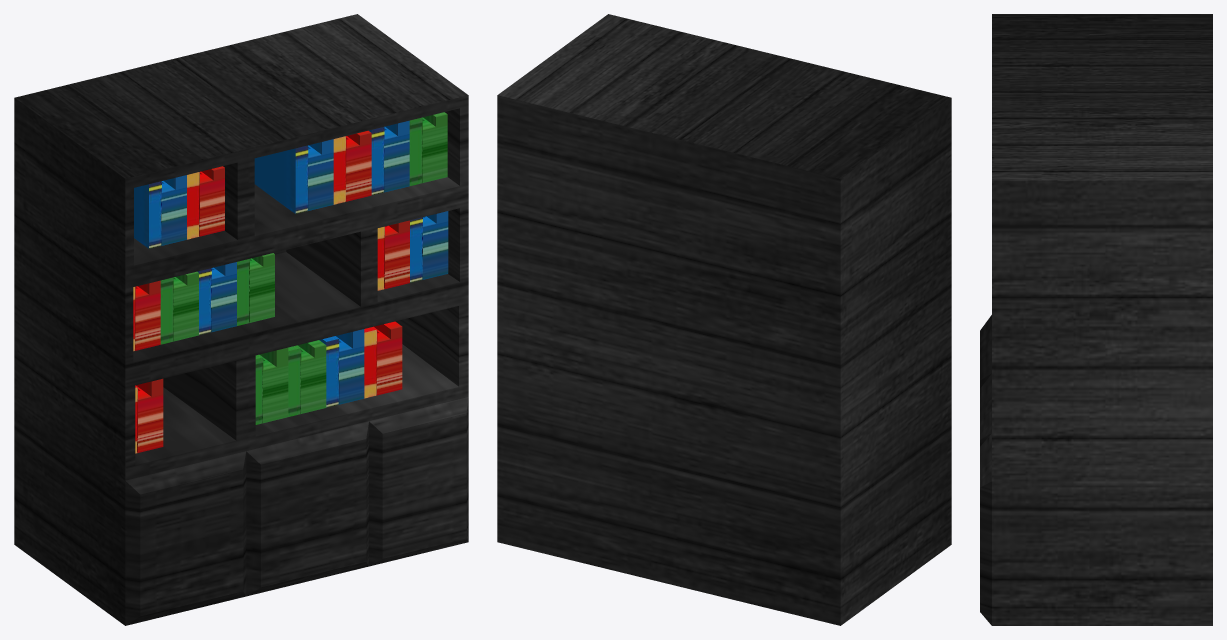
Rendered from Librero_prefab.fbx.
The picture shows the model from 3 angles, left to right: view 1: azimuth 30°, elevation 25°; view 2: azimuth 150°, elevation 25°; view 3: azimuth 270°, elevation 25°; orthographic projection.
Visible parts, largest first — view 1: Cube, Cube.016, Cube.003, Cube.004; view 2: Cube; view 3: Cube.
Boxes of the visible parts, x1,y1,x2,y2 form: Cube: [14, 14, 468, 625]; Cube.016: [134, 120, 448, 407]; Cube.003: [133, 130, 409, 453]; Cube.004: [160, 112, 447, 424]; Cube: [497, 14, 951, 625]; Cube: [980, 14, 1212, 625].
Size of the model in its own units: 308 by 383 by 182.
1 material, 1 textured.
